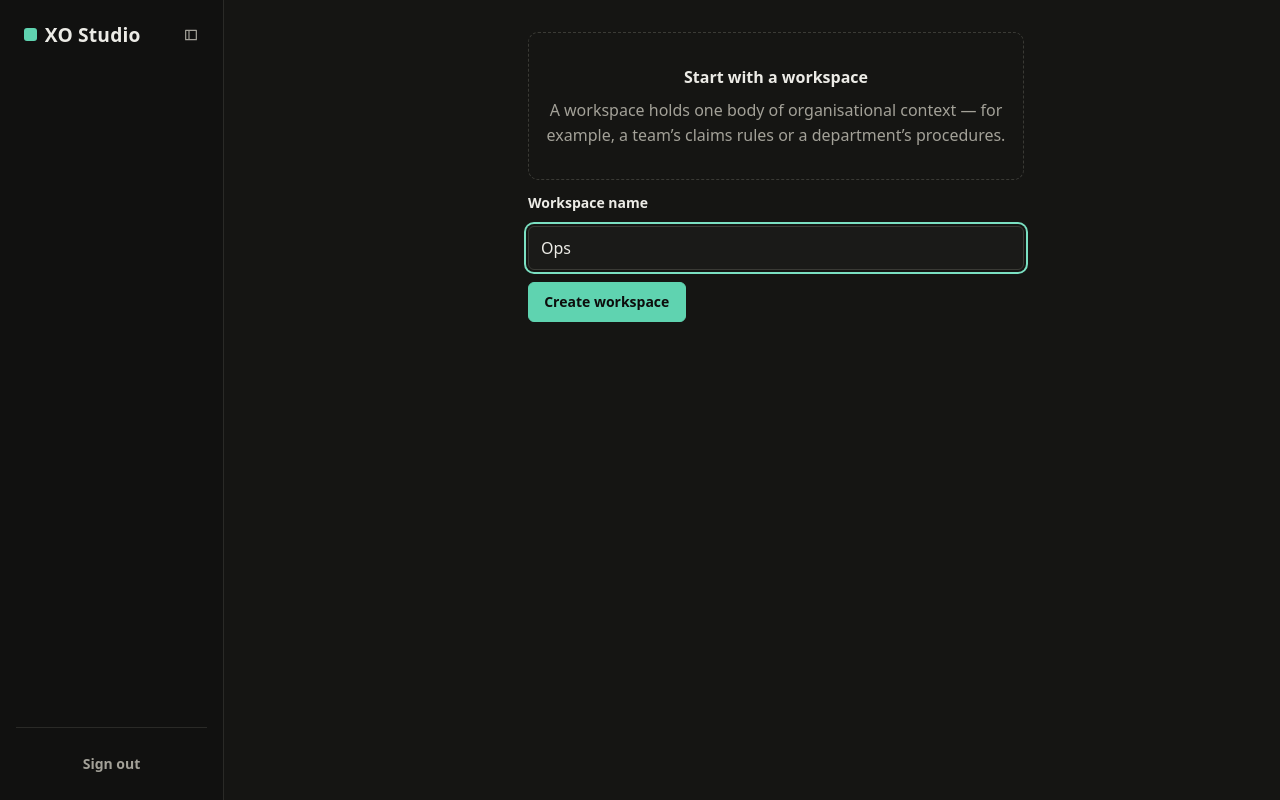
Scenario: Workspaces: switching keeps every request inside the chosen workspace › after opening another workspace, its data is requested under that workspace only
Earlier steps of the test are not shown.
Later steps or results of the test are not shown.
Click the button "Create workspace". click: (607, 302)
box: 528,282 -> 686,322
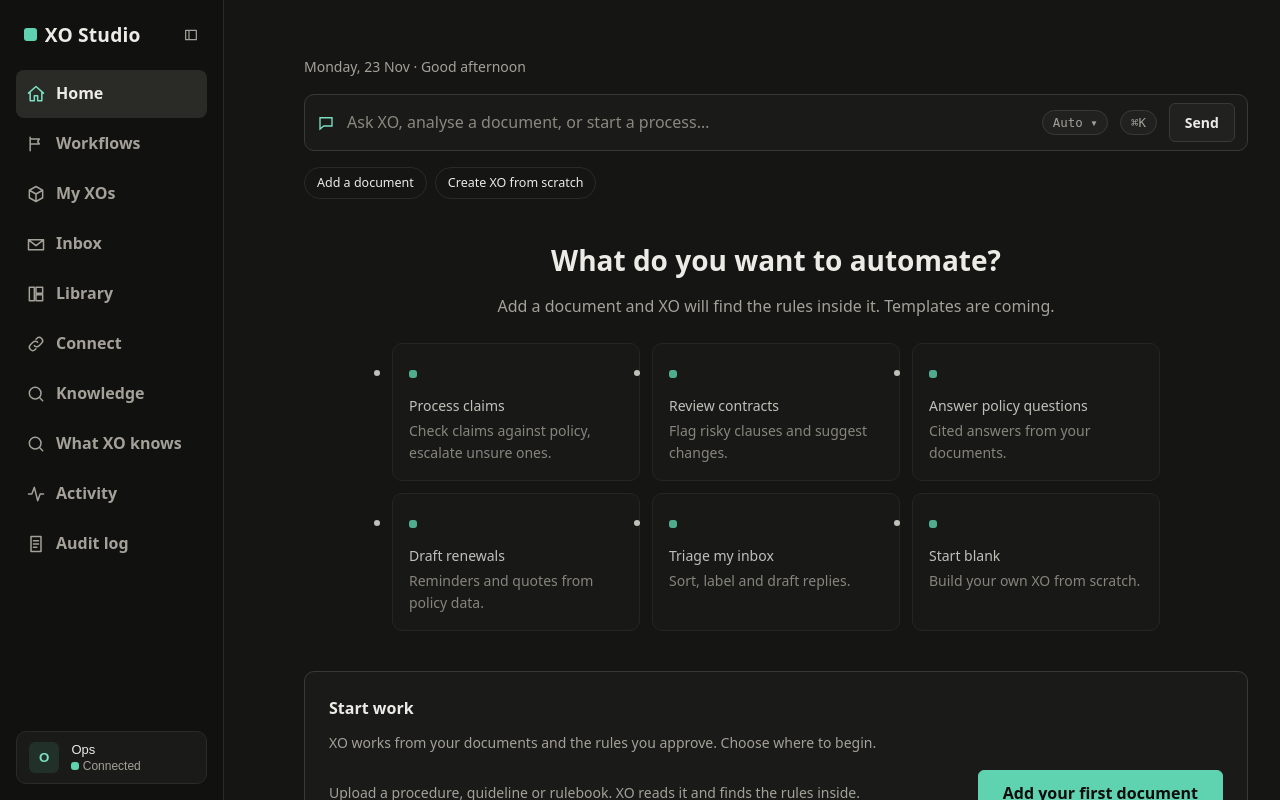
Click the button with aria-label "Workspace menu". click: (112, 758)
box: 16,731 -> 207,784
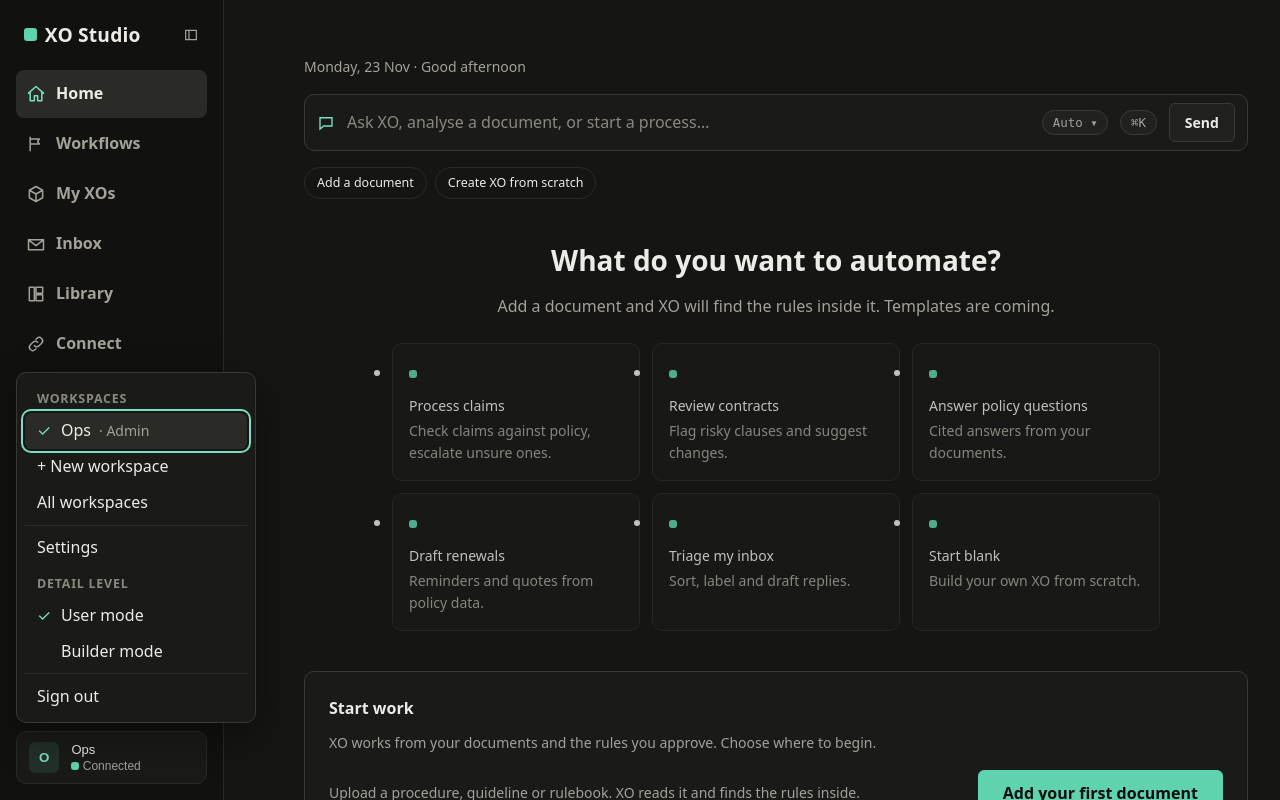
Click the menu item "All workspaces". click: (136, 503)
box: 25,485 -> 247,521
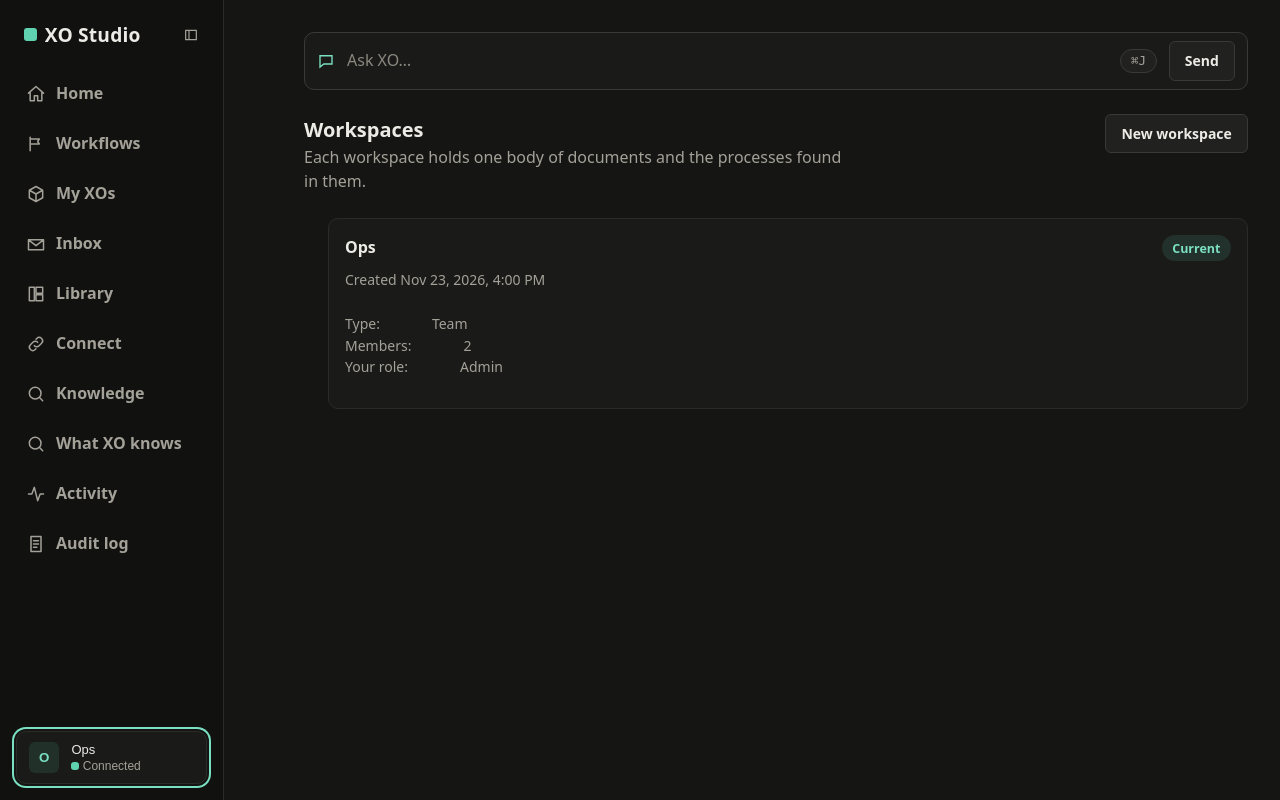
Click the button "New workspace". click: (1177, 134)
box: 1105,114 -> 1248,153
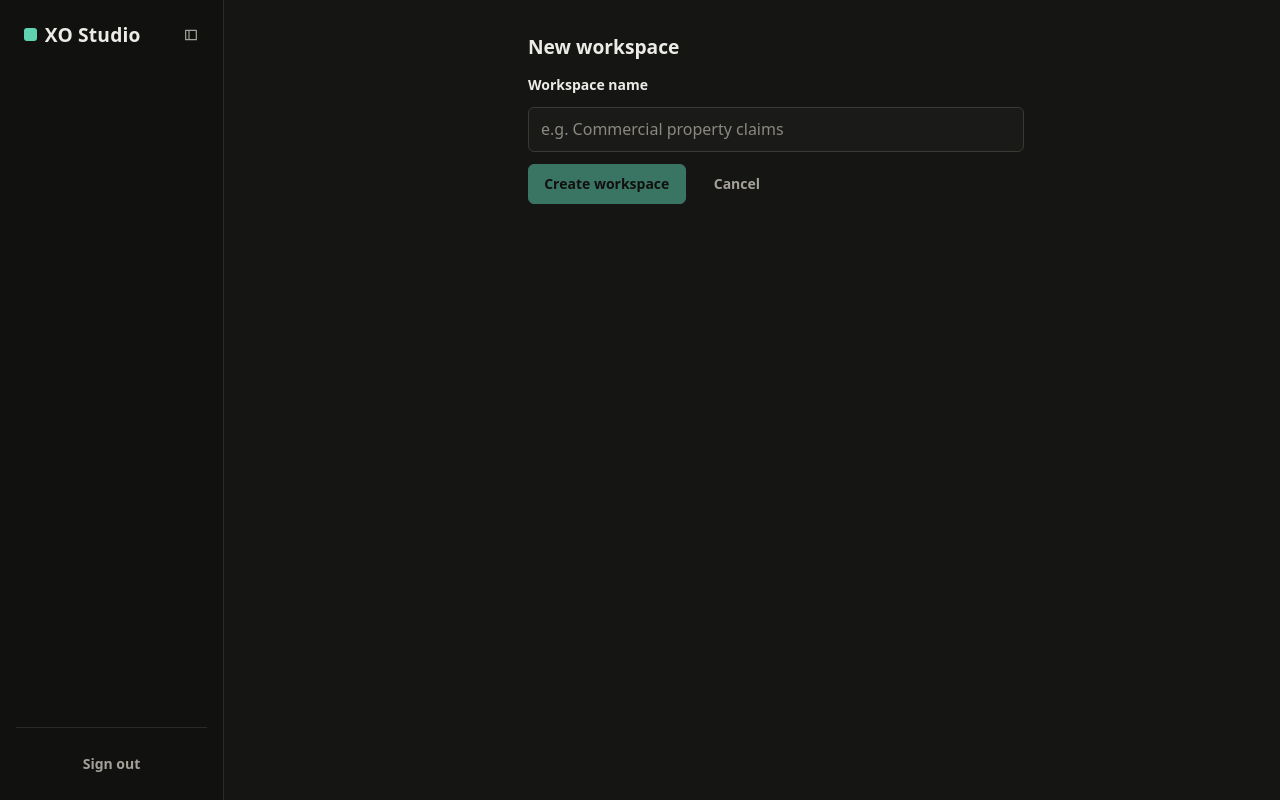
Type "Second" into the field labelled "Workspace name". click: (776, 130)
box: 528,107 -> 1024,152
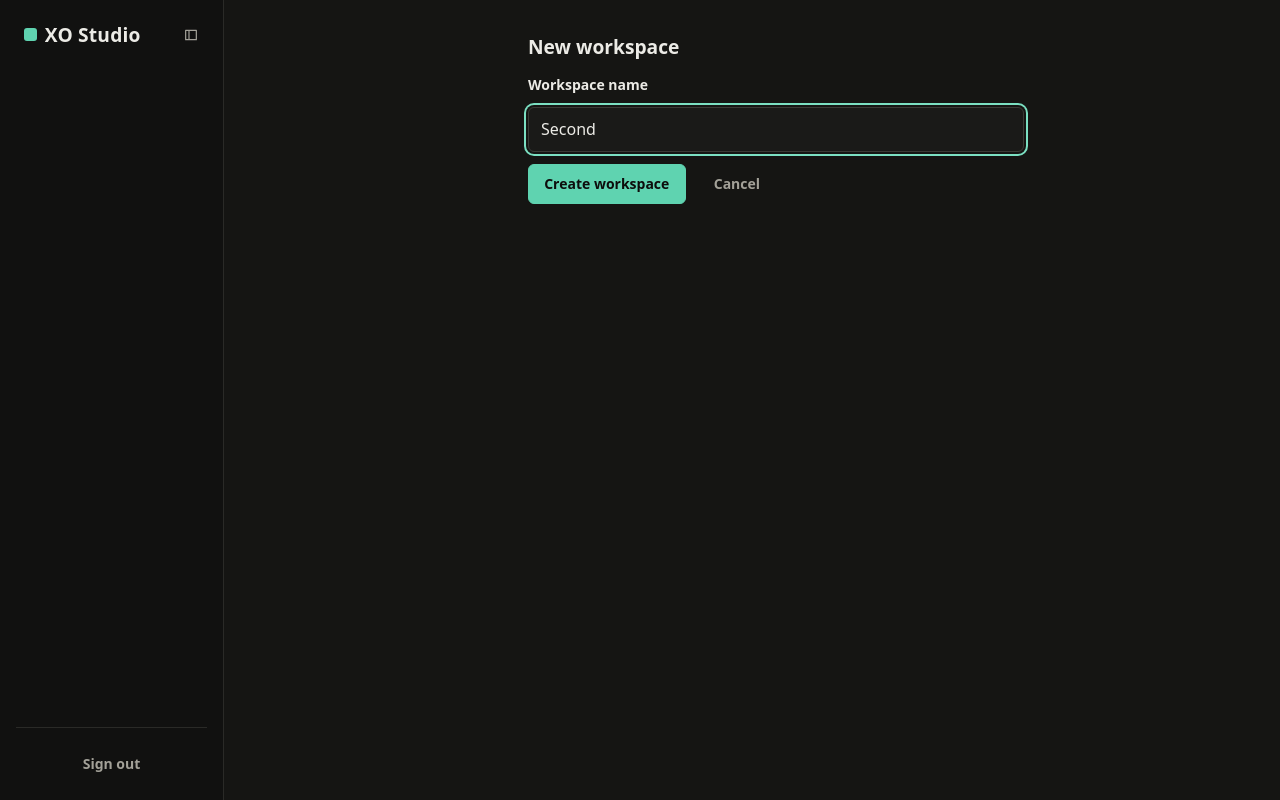
Click the button "Create workspace". click: (607, 184)
box: 528,164 -> 686,204
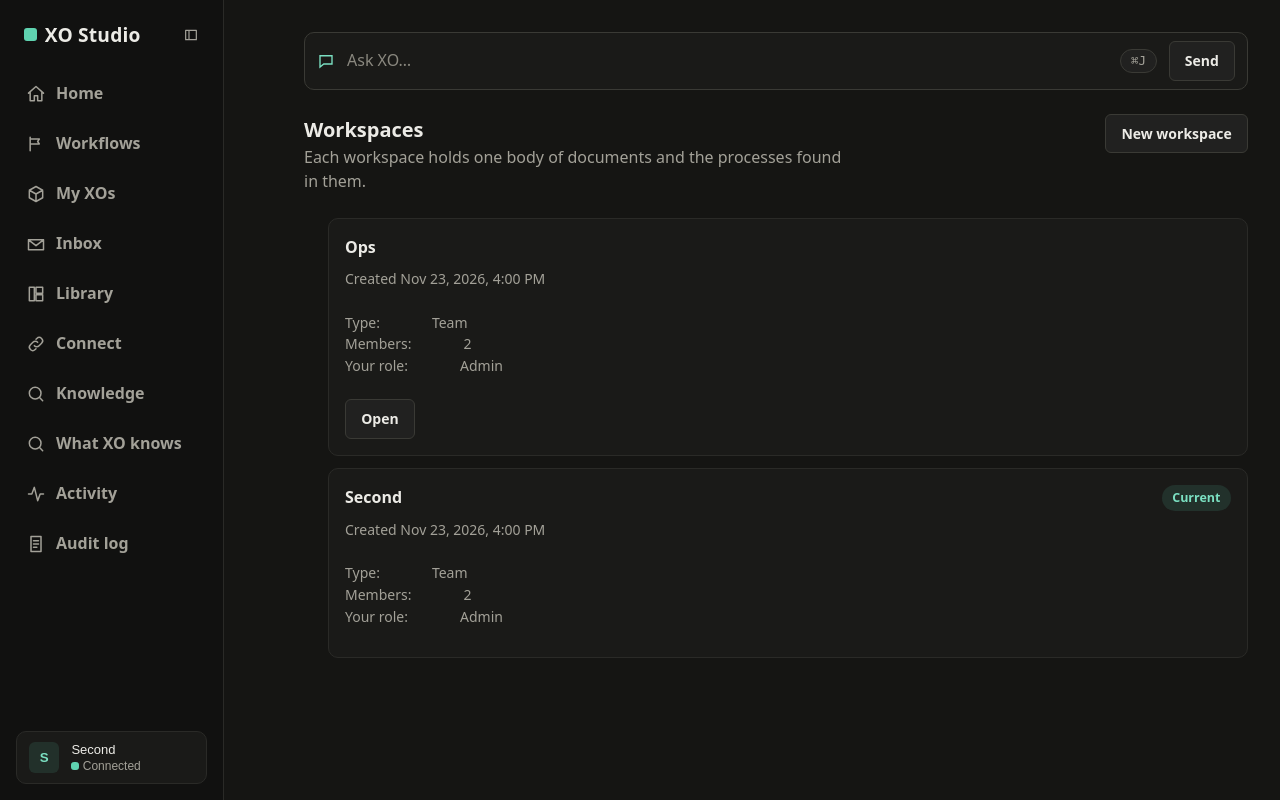
Expected: the text "Second" is shown, 71,742 -> 116,757
